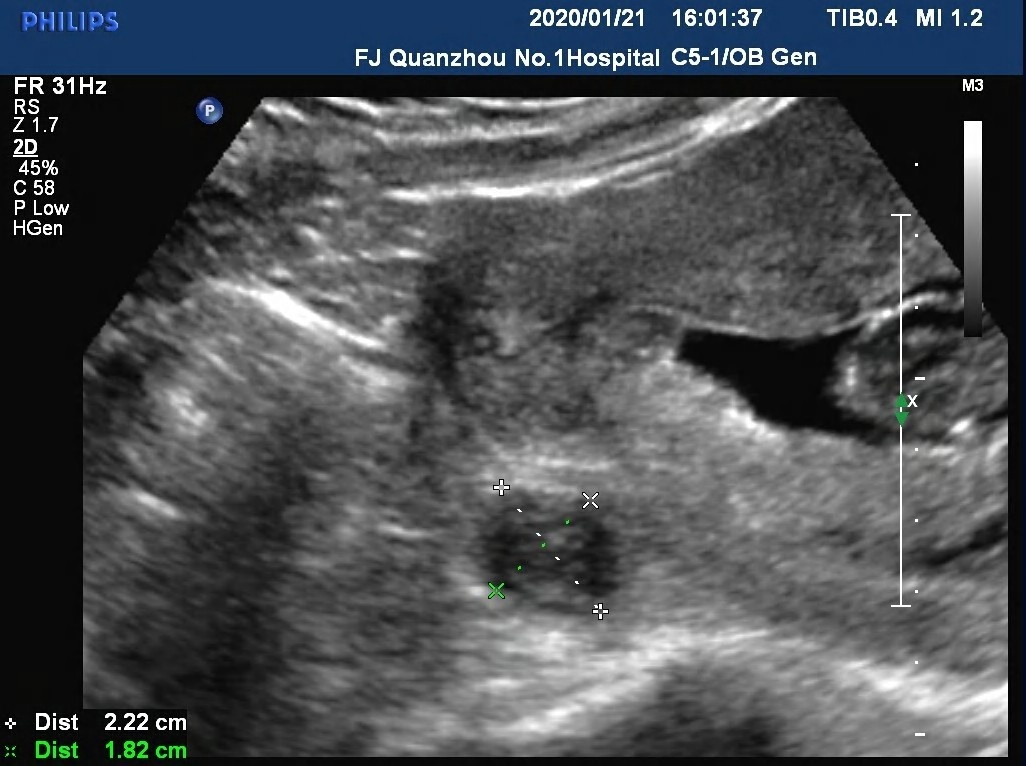肌瘤: (500, 504, 602, 604)
